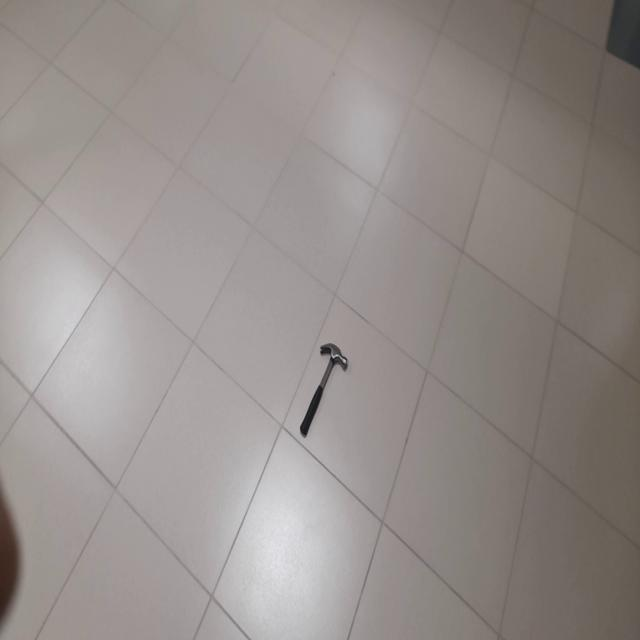hammer: (301, 342, 348, 438)
